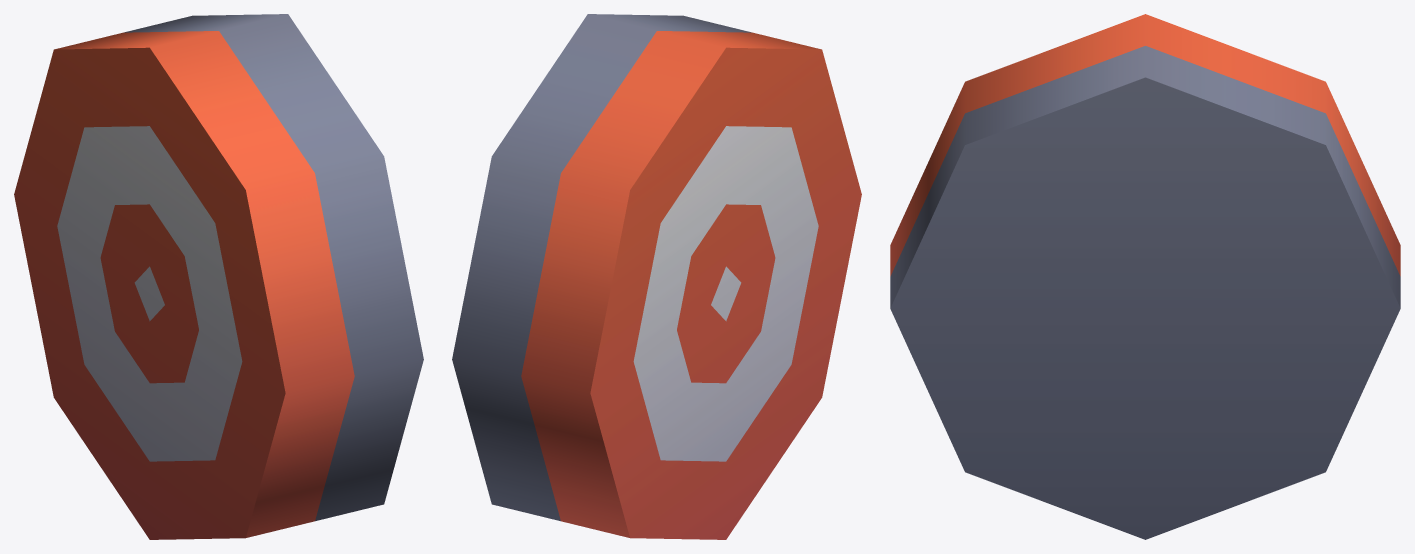
Rendered from shooting_target.glb.
3 renders of one model, left to right at view 1: azimuth 30°, elevation 25°; view 2: azimuth 150°, elevation 25°; view 3: azimuth 270°, elevation 25°, orthographic. The views are drawn at different scales.
Visible parts, largest first — view 1: target-large; view 2: target-large; view 3: target-large.
Part boxes in pixels (x1,y1,x2,y2): target-large: (14,14,423,539); target-large: (452,14,861,539); target-large: (890,14,1400,539).
Bounding box in the file's own units: 0.1 × 0.34 × 0.34.
Materials: 1 (1 with a texture image).
